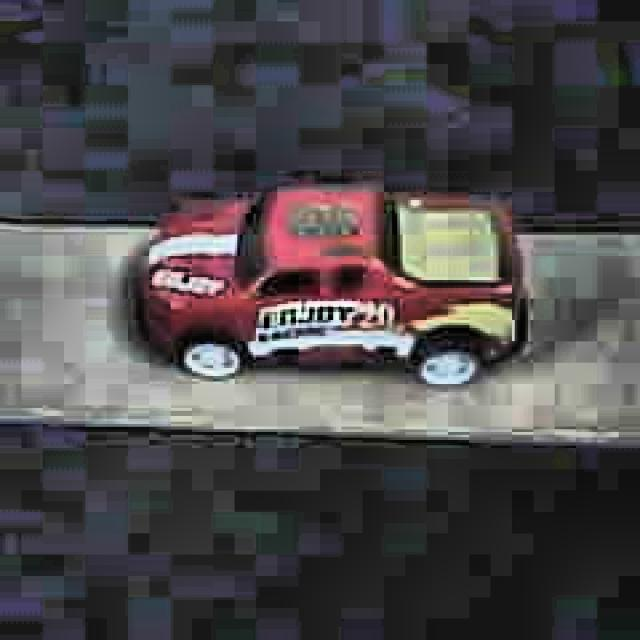car: (130, 177, 529, 388)
